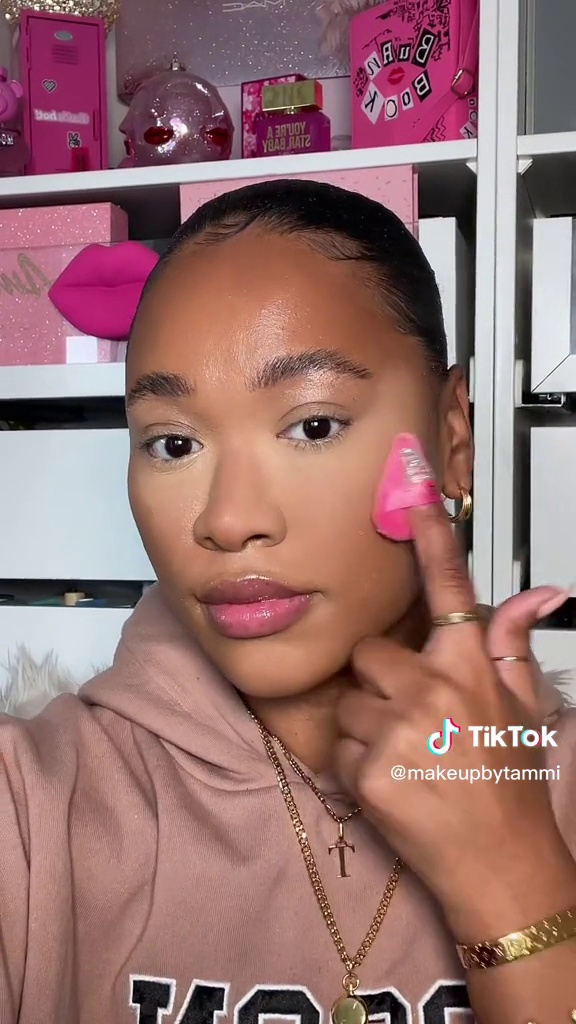train' :'yolo_data/train/images',: (378, 423, 483, 550)
